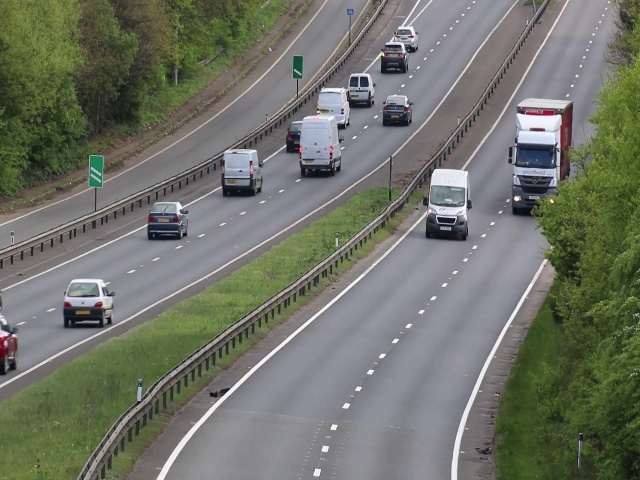car: (509, 96, 573, 215), (426, 167, 470, 240), (62, 277, 116, 329), (300, 116, 342, 176), (220, 149, 264, 196), (146, 199, 190, 240), (316, 86, 350, 126), (345, 72, 375, 106), (383, 94, 413, 126), (381, 42, 408, 73), (394, 25, 417, 44), (286, 121, 300, 152)
